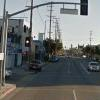Traffic light: (75, 0, 92, 18)
